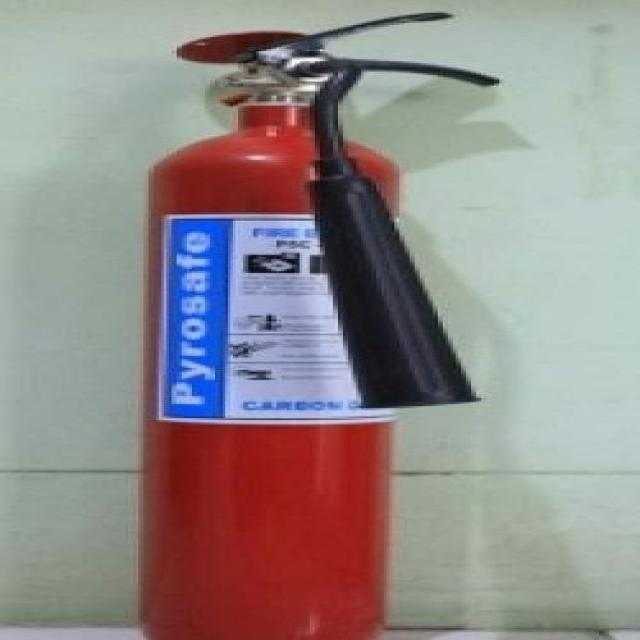fire_extinguisher: (118, 10, 509, 639)
